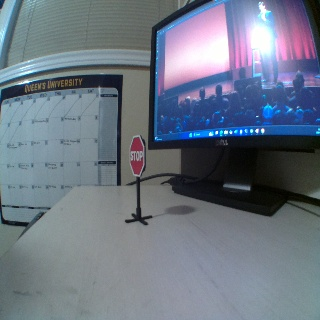sign_stop: (129, 135, 145, 175)
